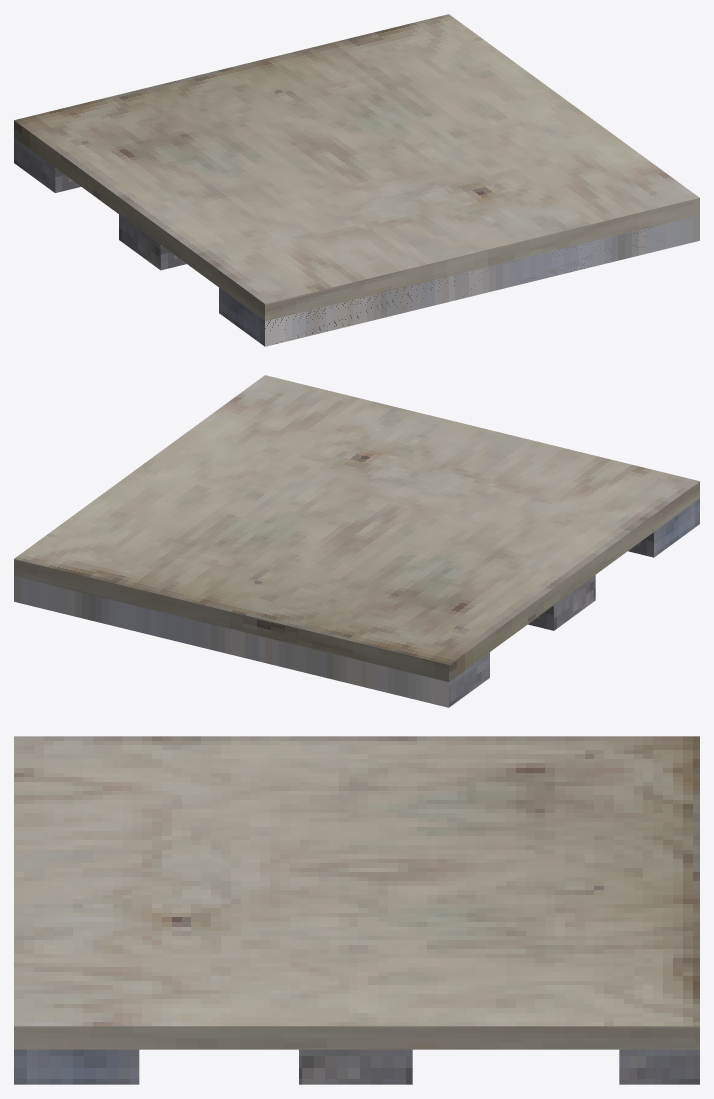
The model's file is Wood_Pallet.glb.
3 views of the same model, one above another, from view 1: azimuth 30°, elevation 25°; view 2: azimuth 150°, elevation 25°; view 3: azimuth 270°, elevation 25° (orthographic). The views are drawn at different scales.
Parts seen in each view (by area): view 1: Pallet; view 2: Pallet; view 3: Pallet.
Boxes of the visible parts, left/top/right/bottom form: Pallet: left=14, top=14, right=699, bottom=346; Pallet: left=14, top=375, right=699, bottom=707; Pallet: left=14, top=736, right=699, bottom=1084.
Bounding box in the file's own units: 3 × 0.2824 × 3.
Materials: 2 (2 with a texture image).
